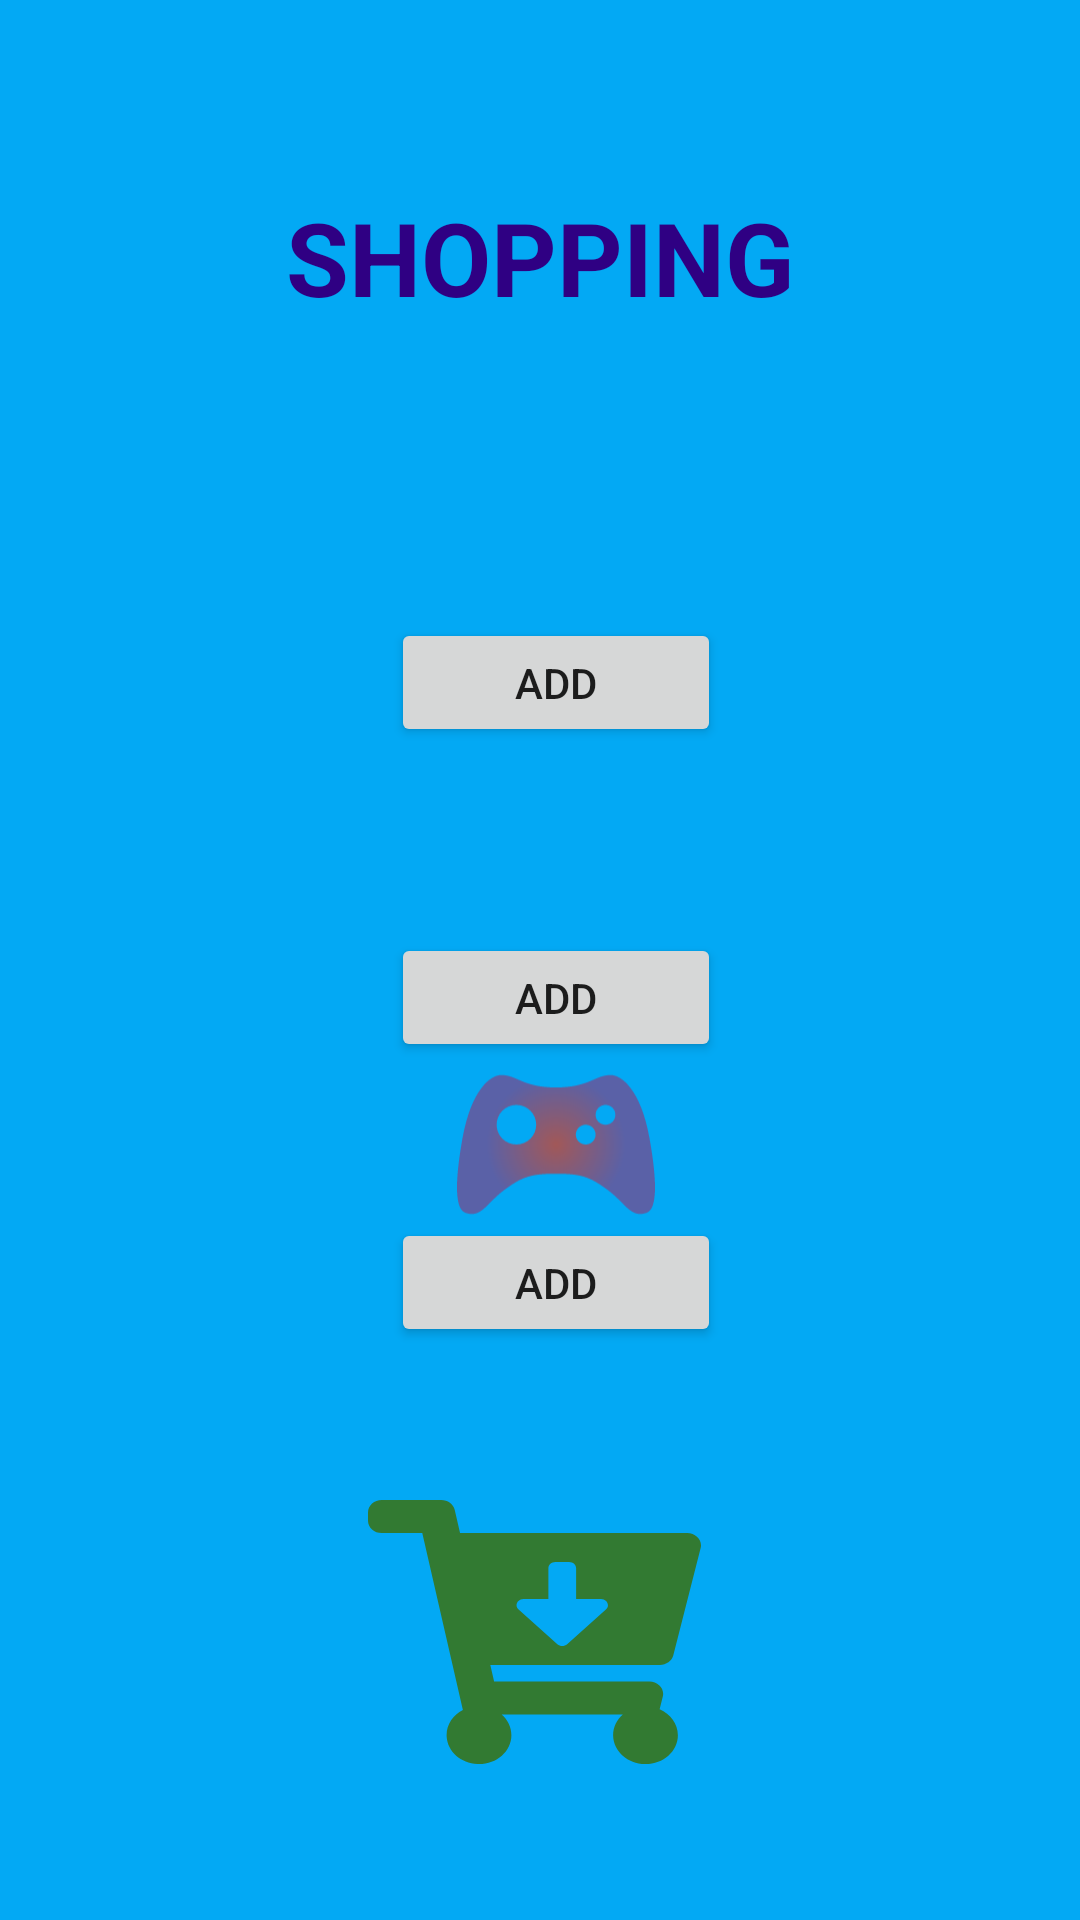

Where to tap for icons on this 1080 x 1920 app screen, as [x,y]:
cart: [534,1632]
console: [556,1144]
